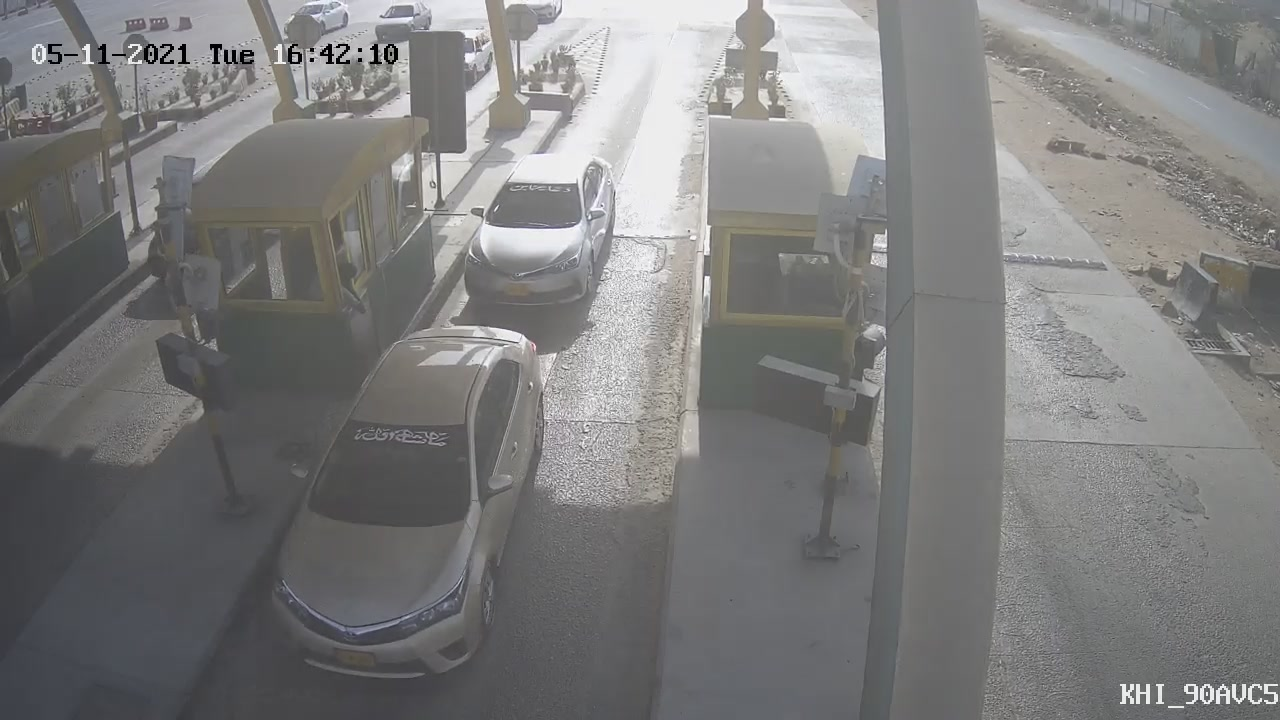F1: (439, 138, 640, 330)
